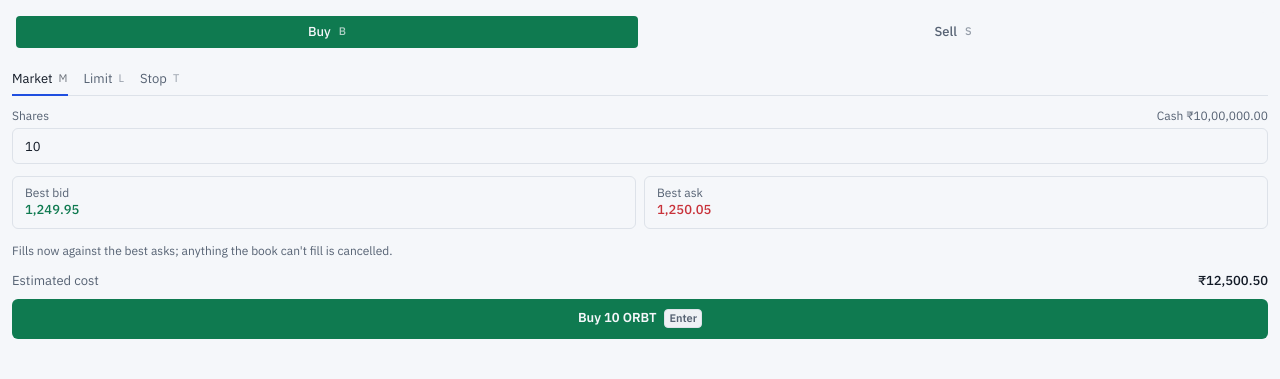
Test: OrderTicket › when the outcome is unknown › uses a new id once the order's details change
Later steps or results of the test are not shown.
Click the button "Buy 10 ORBT Enter" at (640, 319), box [12,299,1268,339]
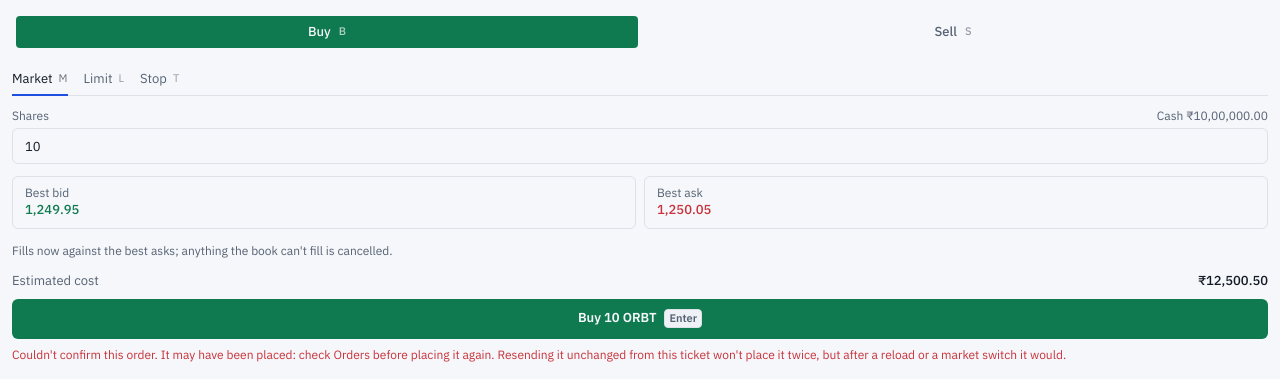
Result: the text "Couldn't confirm this order" is shown at [12,347,1066,362]
